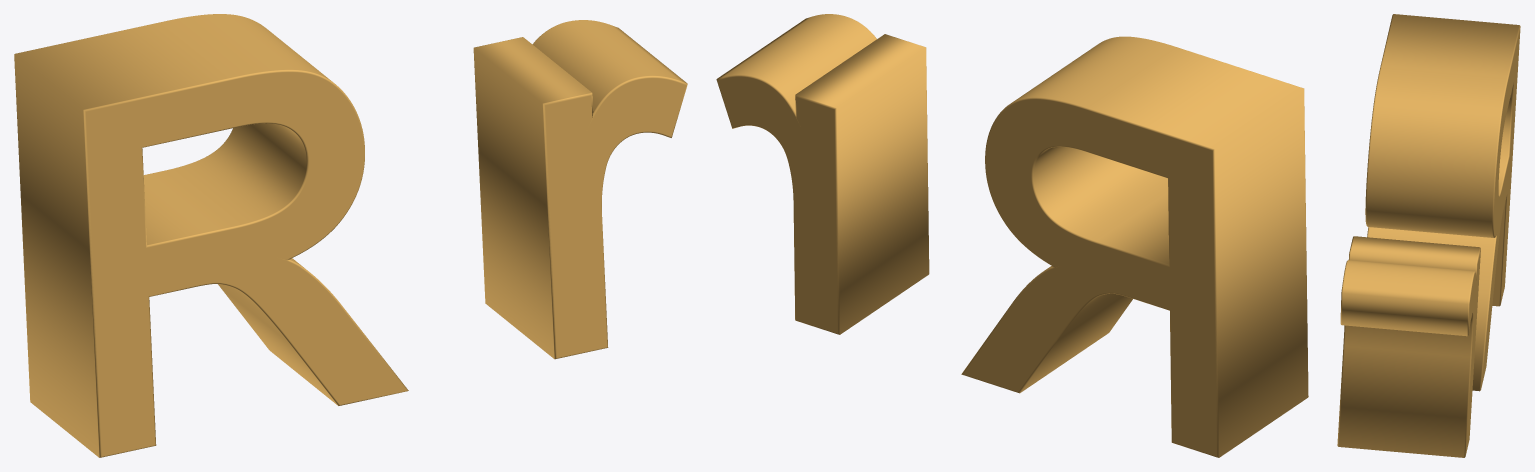
Rendered from ObjectR.fbx.
3 renders of one model, left to right at view 1: azimuth 30°, elevation 25°; view 2: azimuth 150°, elevation 25°; view 3: azimuth 270°, elevation 25°, orthographic. The views are drawn at different scales.
Parts seen in each view (by area): view 1: Text; view 2: Text; view 3: Text.
Boxes of the visible parts, x1=… form: Text: x1=14, y1=14, x2=687, y2=457; Text: x1=716, y1=14, x2=1308, y2=457; Text: x1=1337, y1=14, x2=1520, y2=457.
Bounding box in the file's own units: 244 × 141 × 87.15.
